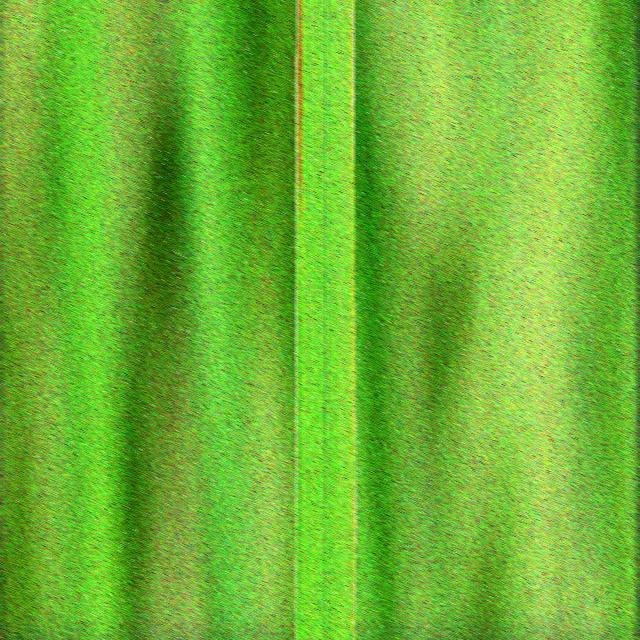NBS: (296, 0, 303, 206)
